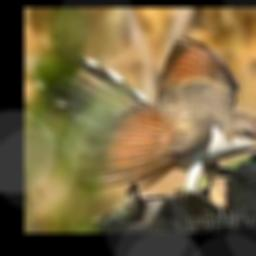Cuckoo: (36, 36, 256, 192)
